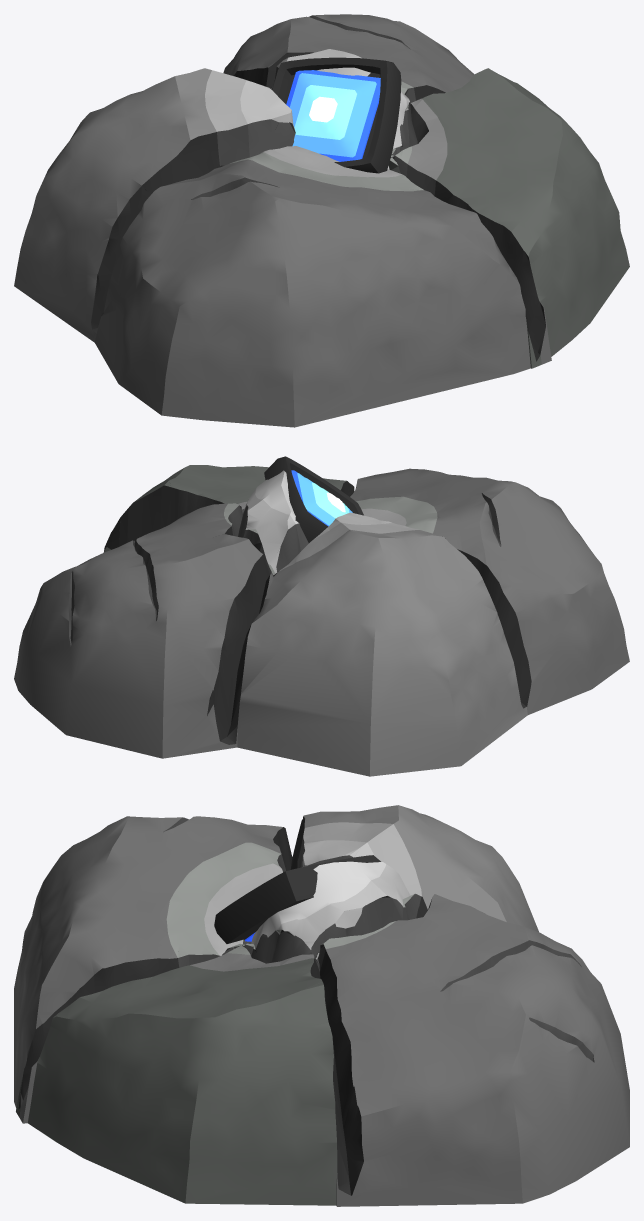
Rendered from rock_blue_eye_235.glb.
The picture shows the model from 3 angles, top to bottom: view 1: azimuth 30°, elevation 25°; view 2: azimuth 150°, elevation 25°; view 3: azimuth 270°, elevation 25°; orthographic projection. The views are drawn at different scales.
Parts seen in each view (by area): view 1: rock_blue_eye_235; view 2: rock_blue_eye_235; view 3: rock_blue_eye_235.
Part boxes in pixels (x1,y1,x2,y2): rock_blue_eye_235: (14,14,629,427); rock_blue_eye_235: (14,456,629,776); rock_blue_eye_235: (14,805,629,1206).
Bounding box in the file's own units: 23.28 × 9.52 × 23.
